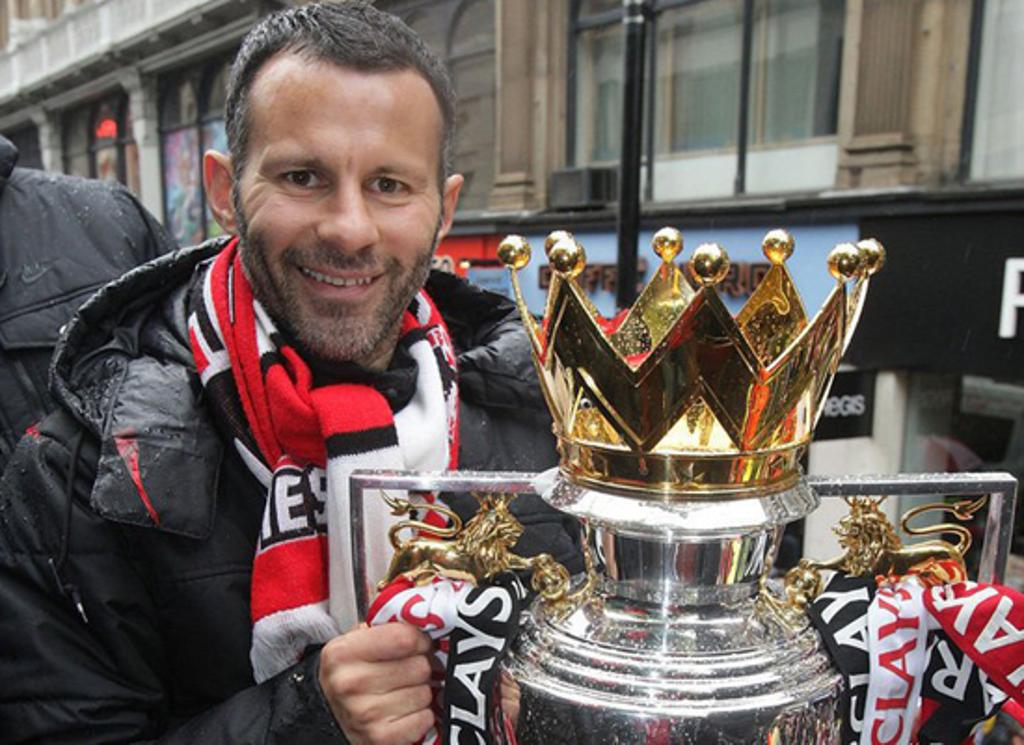face: (239, 53, 443, 363)
